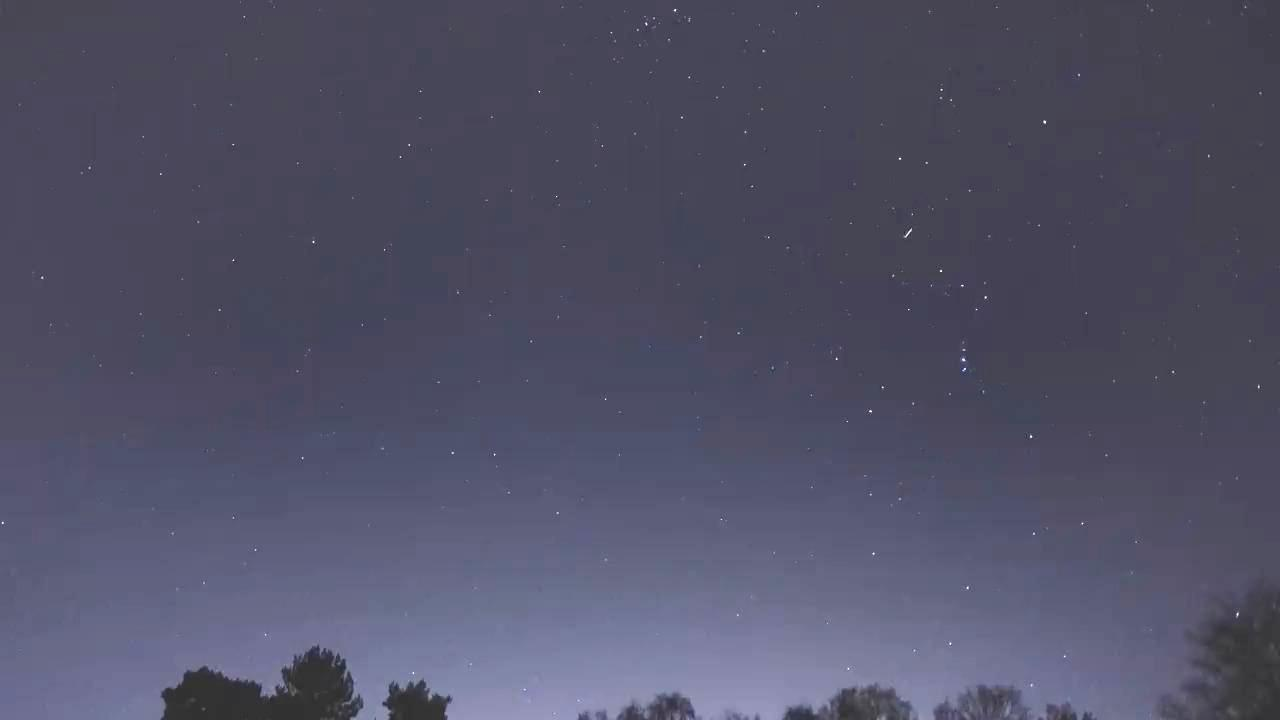meteorite: (887, 221, 931, 242)
